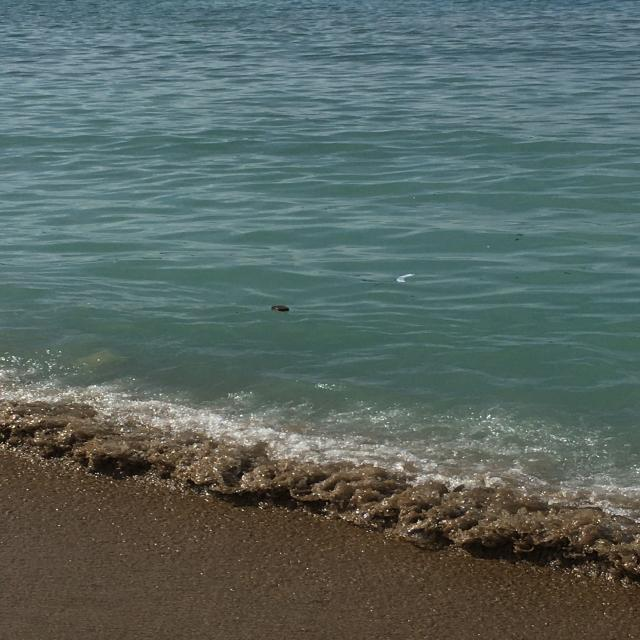Plastic: (395, 272, 416, 283)
Wood: (269, 304, 290, 313)
